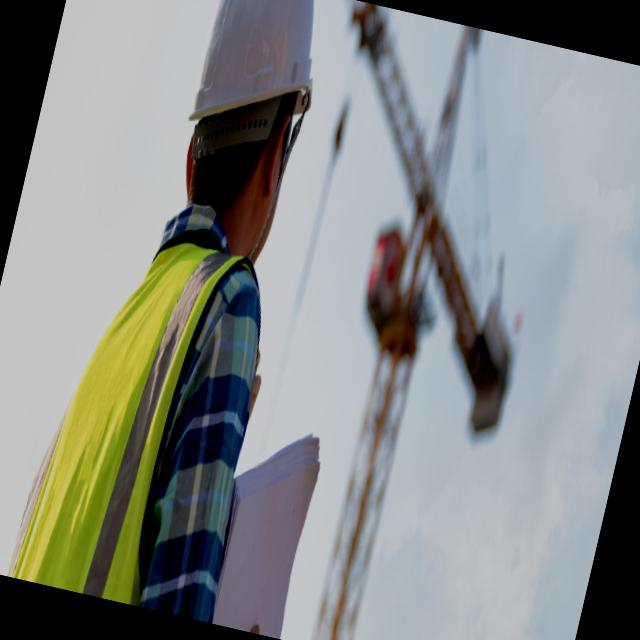helmet: (161, 0, 342, 207)
vest: (17, 208, 240, 610)
